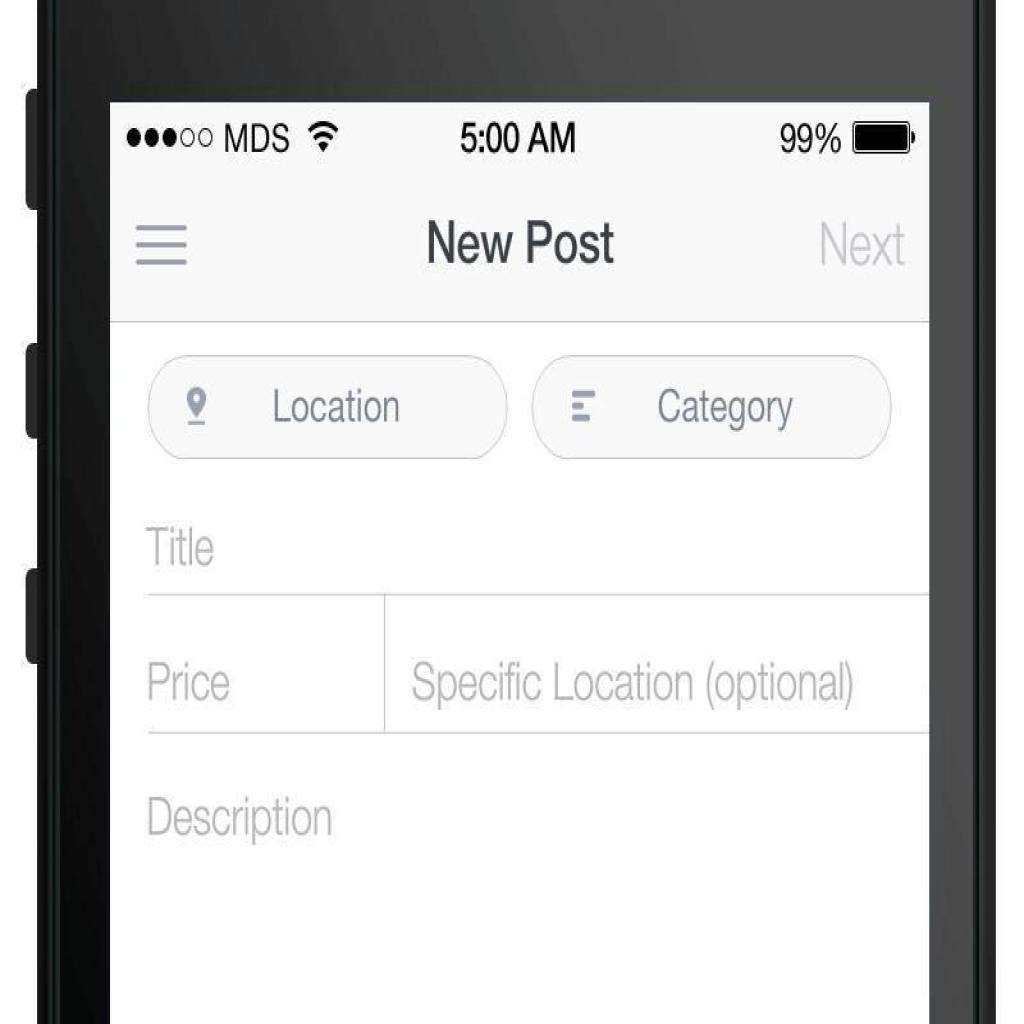button: (531, 355, 892, 461), (147, 355, 508, 459)
icon: (131, 218, 192, 272)
label: (411, 657, 855, 715), (142, 787, 339, 846), (815, 214, 910, 278), (145, 654, 233, 708), (145, 519, 220, 573)
